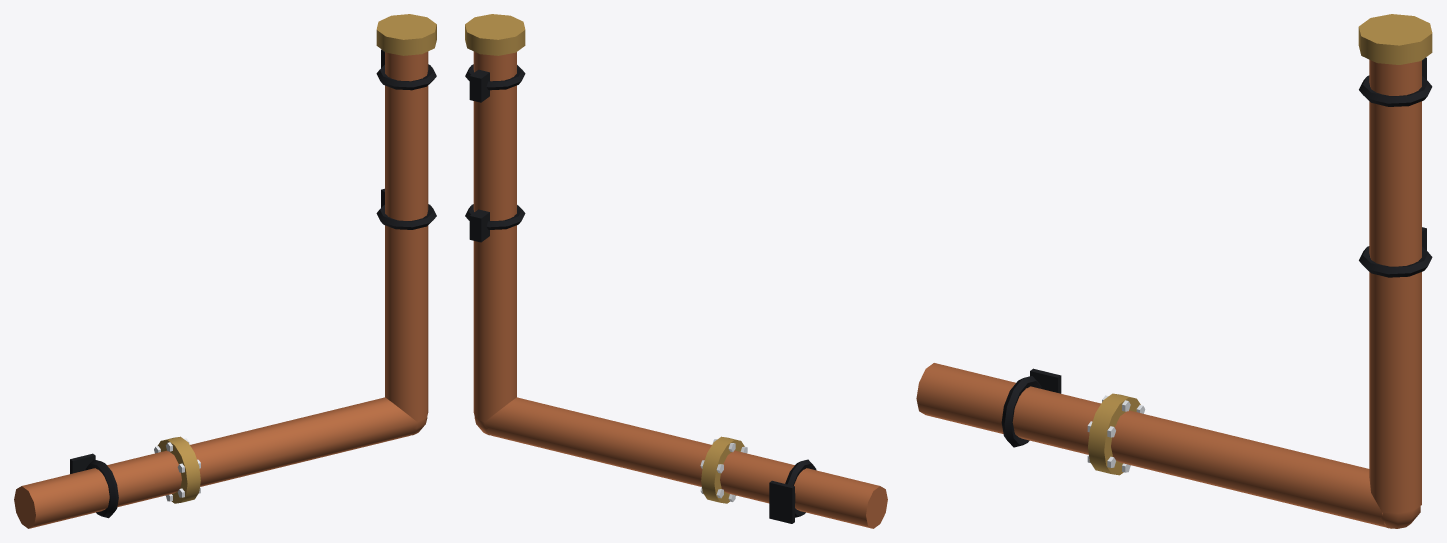
File: pipe_elbow_up.glb
The picture shows the model from 3 angles, left to right: view 1: azimuth 30°, elevation 25°; view 2: azimuth 150°, elevation 25°; view 3: azimuth 330°, elevation 25°; orthographic projection. The views are drawn at different scales.
Visible parts, largest first — view 1: pipe_elbow_up; view 2: pipe_elbow_up; view 3: pipe_elbow_up.
Part boxes in pixels (<box>): pipe_elbow_up: <box>14,14,436,528</box>; pipe_elbow_up: <box>465,14,887,528</box>; pipe_elbow_up: <box>916,14,1432,528</box>.
Bounding box in the file's own units: 1.07 × 1.04 × 0.165.
